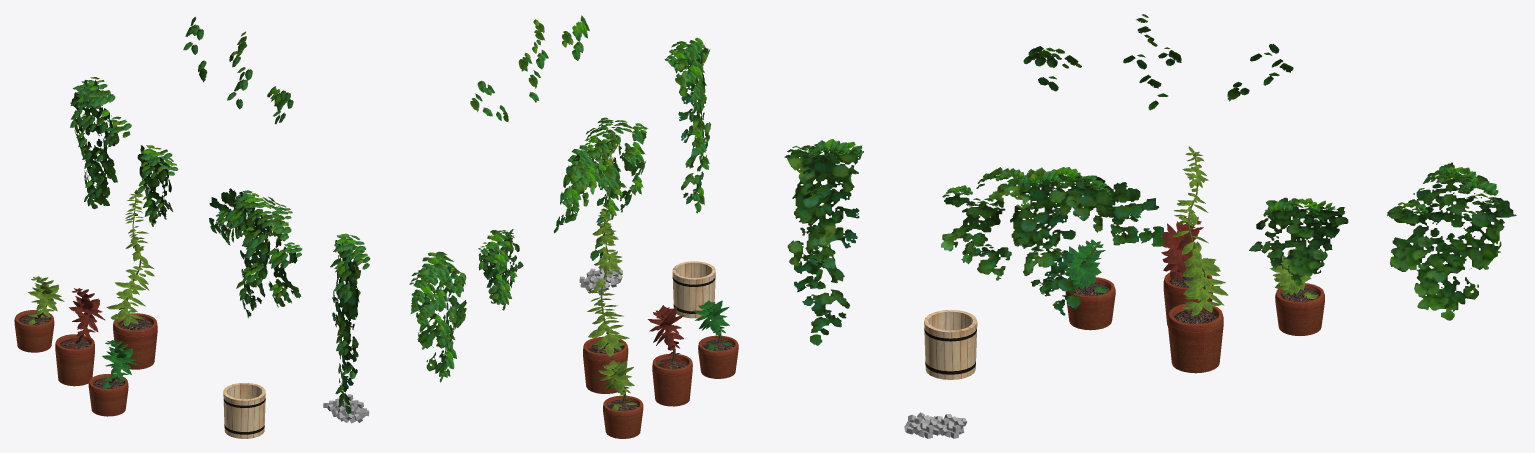
File: plantSS.fbx
3 renders of one model, left to right at view 1: azimuth 30°, elevation 25°; view 2: azimuth 150°, elevation 25°; view 3: azimuth 270°, elevation 25°, orthographic. The views are drawn at different scales.
Visible parts, largest first — view 1: climbingPlant2, climbingPlant, plant54, climbingPlant3, plant57, plant55, plant56, woodBucket2, climbingPlant1, ice, Leaves2, Leaves1 (+1 smaller); view 2: climbingPlant2, climbingPlant, plant54, climbingPlant3, plant57, plant56, plant55, climbingPlant1, woodBucket2, Leaves2, ice, Leaves1 (+1 smaller); view 3: climbingPlant2, climbingPlant, climbingPlant3, plant54, climbingPlant1, woodBucket2, plant56, plant55, plant57, ice, Leaves1, Leaves2.
Part boxes in pixels (<box>): climbingPlant2: <box>209,188,302,318</box>; climbingPlant: <box>70,77,131,209</box>; plant54: <box>106,189,157,369</box>; climbingPlant3: <box>330,233,370,413</box>; plant57: <box>55,288,105,386</box>; plant55: <box>14,276,64,352</box>; plant56: <box>88,340,138,416</box>; woodBucket2: <box>223,383,265,438</box>; climbingPlant1: <box>137,145,178,226</box>; ice: <box>323,394,369,423</box>; Leaves2: <box>227,31,252,109</box>; Leaves1: <box>267,86,293,124</box>; climbingPlant2: <box>553,117,647,260</box>; climbingPlant: <box>409,251,466,382</box>; plant54: <box>583,208,629,393</box>; climbingPlant3: <box>664,37,711,213</box>; plant57: <box>647,305,692,406</box>; plant56: <box>693,300,738,378</box>; plant55: <box>598,360,643,438</box>; climbingPlant1: <box>478,229,523,310</box>; woodBucket2: <box>672,261,715,318</box>; Leaves2: <box>518,19,548,102</box>; ice: <box>579,265,622,295</box>; Leaves1: <box>562,15,589,60</box>; climbingPlant2: <box>941,167,1165,315</box>; climbingPlant: <box>1387,162,1516,320</box>; climbingPlant3: <box>784,139,863,345</box>; plant54: <box>1167,146,1228,373</box>; climbingPlant1: <box>1249,197,1348,285</box>; woodBucket2: <box>924,310,977,379</box>; plant56: <box>1062,239,1115,330</box>; plant55: <box>1269,248,1324,335</box>; plant57: <box>1161,216,1213,325</box>; ice: <box>904,412,966,438</box>; Leaves1: <box>1023,46,1081,91</box>; Leaves2: <box>1123,14,1181,110</box>.
Bounding box in the file's own units: 130 × 195 × 326.
